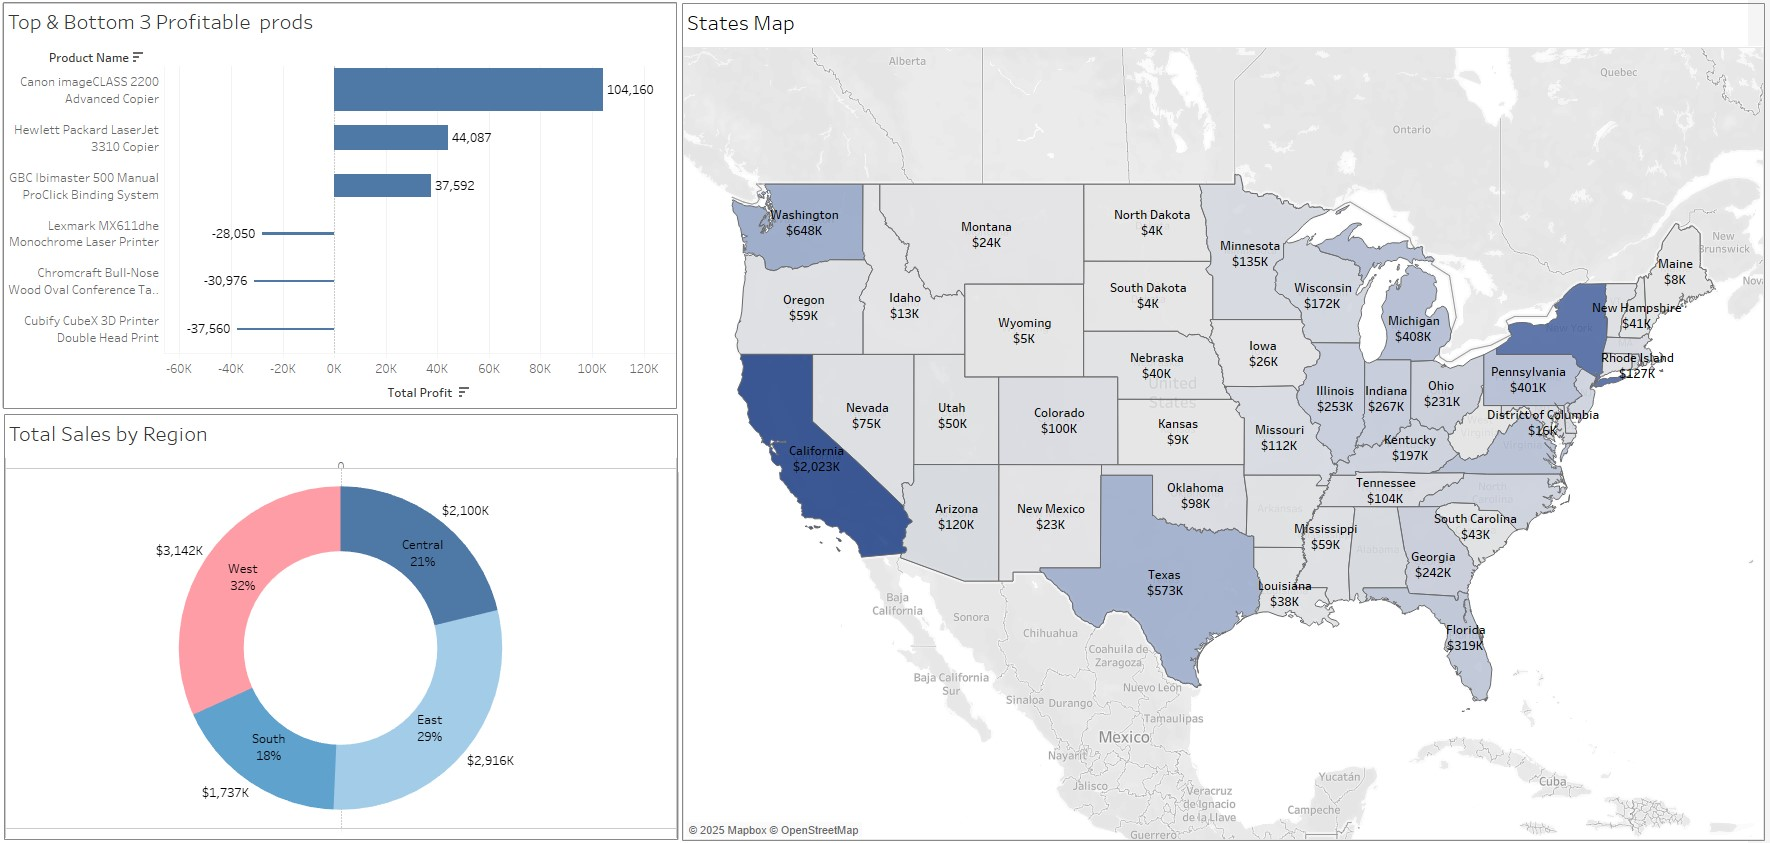

The page's visual inventory and layout, read from the dashboard file:
{"tool":"tableau","page":{"name":"Dashboard 2","canvas":[1000,1000],"units":"permille","ordinal":1},"visuals":[{"type":"worksheet","title":"Top & Bottom 3 Profitable  prods","mark":"Automatic","rows":["Product Name"],"cols":["Calculation_1577667261106524161"],"box":[1.8,14.2,385.6,464.6]},{"type":"worksheet","title":"Total Sales by Region ","mark":"Pie","cols":["Calculation_733242331882450944","Calculation_733242331882450944"],"box":[3.6,483.5,385,496.5]}]}

Visuals, with their boxes on the dashboard's canvas, which has no fixed pixel size, in thousandths of its width and height (x1, y1, x2, y2). These are canvas units, not pixel positions in the 1770x843 screenshot, which may show the page scaled, cropped or inside an application window:
"Top & Bottom 3 Profitable  prods" worksheet: (left=2, top=14, right=387, bottom=479)
"Total Sales by Region " worksheet (Pie marks): (left=4, top=484, right=389, bottom=980)
